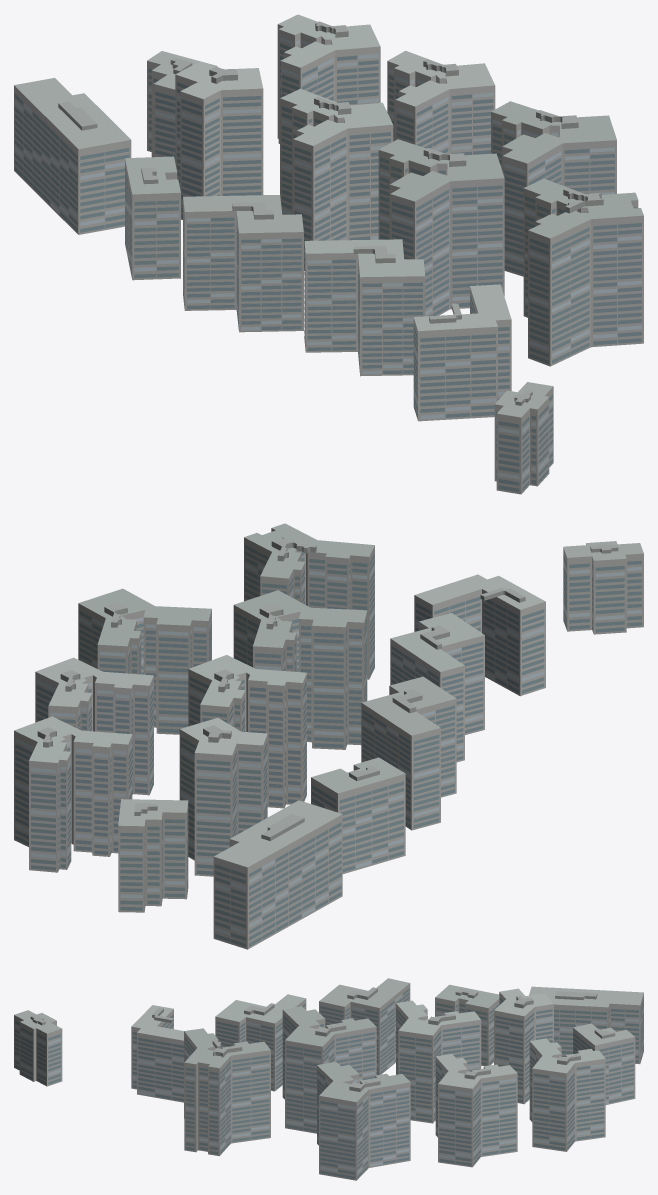
Rendered from apt-a10024719.glb.
The picture shows the model from 3 angles, top to bottom: view 1: azimuth 30°, elevation 25°; view 2: azimuth 150°, elevation 25°; view 3: azimuth 270°, elevation 25°; orthographic projection. The views are drawn at different scales.
Visible parts, largest first — view 1: apt-a10024719; view 2: apt-a10024719; view 3: apt-a10024719.
Part boxes in pixels (x1,y1,x2,y2): apt-a10024719: (14,14,643,494); apt-a10024719: (14,523,643,949); apt-a10024719: (14,978,643,1180).
Bounding box in the file's own units: 186 × 58 × 361.
